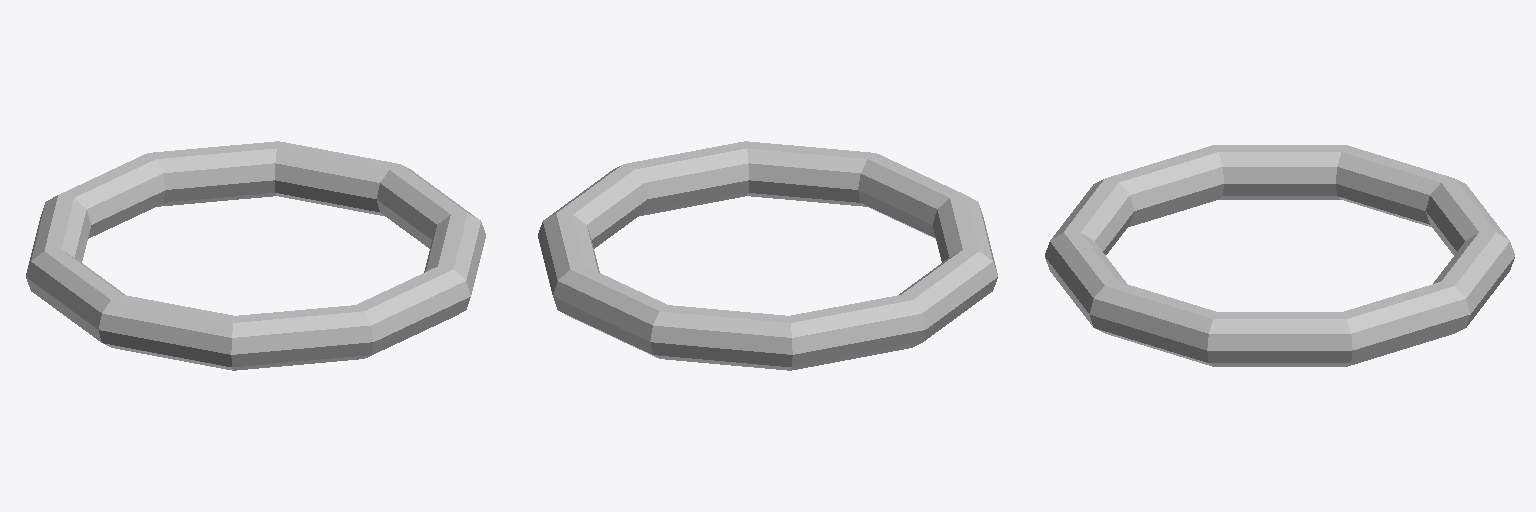
Rendered from tore.obj.
The picture shows the model from 3 angles: view 1: azimuth 30°, elevation 25°; view 2: azimuth 150°, elevation 25°; view 3: azimuth 270°, elevation 25°; orthographic projection.
Visible parts, largest first — view 1: Tore001; view 2: Tore001; view 3: Tore001.
Boxes of the visible parts, <box> form: Tore001: <box>26,141,485,370</box>; Tore001: <box>538,141,997,370</box>; Tore001: <box>1045,145,1514,366</box>.
Bounding box in the file's own units: 38.04 × 4.48 × 40.